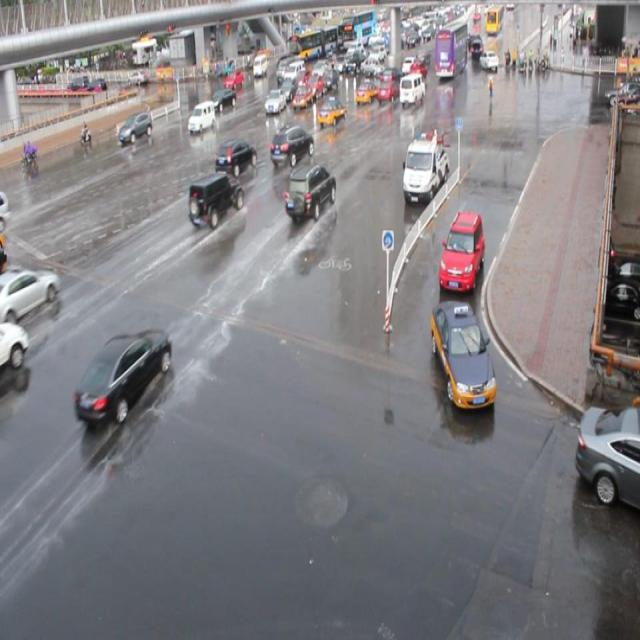bus: (401, 133, 447, 202)
car: (72, 327, 172, 426), (430, 298, 496, 408), (574, 404, 640, 510), (438, 210, 483, 290), (187, 172, 244, 230), (284, 162, 336, 222), (269, 123, 313, 166), (213, 138, 257, 177), (118, 112, 152, 144), (316, 95, 347, 126), (208, 87, 236, 111), (376, 78, 400, 102), (354, 80, 378, 103), (264, 90, 286, 114), (292, 84, 312, 110), (306, 74, 324, 98), (223, 69, 244, 89), (279, 78, 297, 101), (293, 69, 310, 91)
truck: (398, 73, 425, 106), (188, 100, 215, 132)
